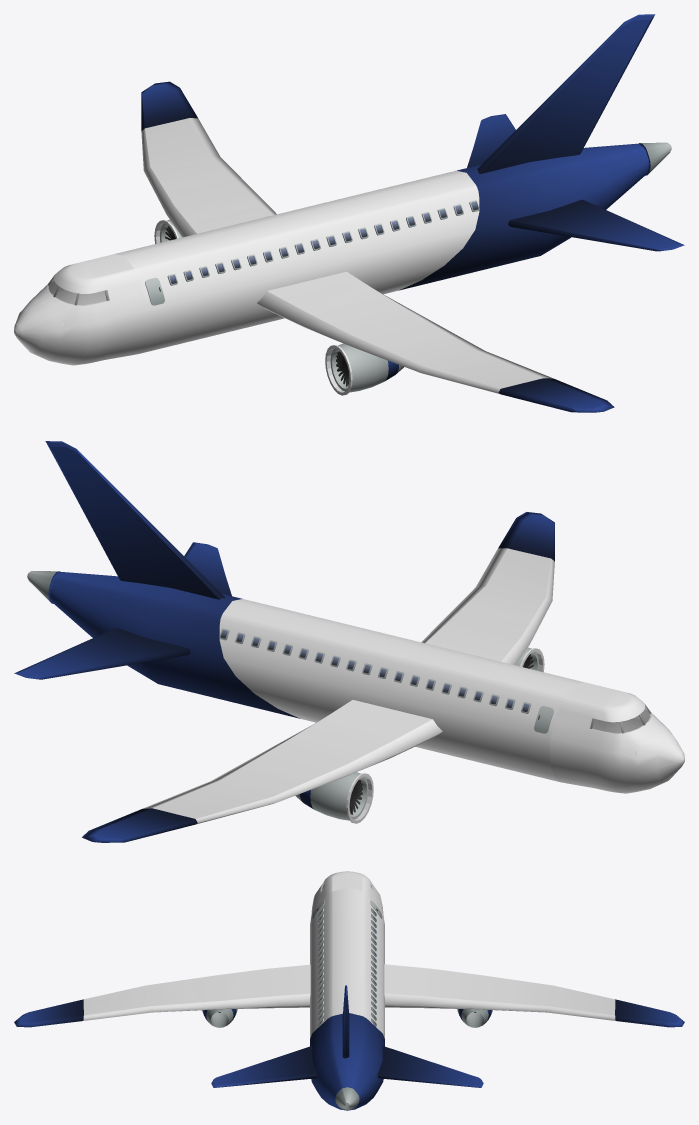
File: Plane_Exterior.fbx
3 views of the same model, one above another, from view 1: azimuth 30°, elevation 25°; view 2: azimuth 150°, elevation 25°; view 3: azimuth 270°, elevation 25° (orthographic). The views are drawn at different scales.
Visible parts, largest first — view 1: vetro_plane1; view 2: vetro_plane1; view 3: vetro_plane1.
Part boxes in pixels (bbox=[...]): vetro_plane1: bbox=[14, 14, 684, 412]; vetro_plane1: bbox=[14, 441, 684, 842]; vetro_plane1: bbox=[14, 871, 684, 1110].
Bounding box in the file's own units: 6104 × 1990 × 7244.
3 materials, 1 textured.
